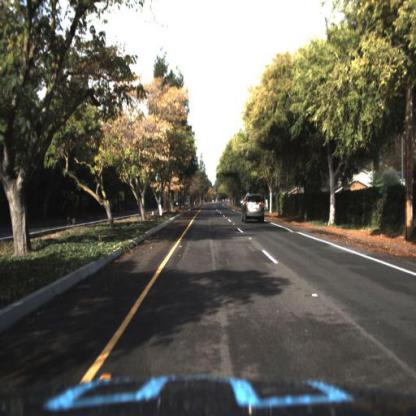car: (241, 194, 267, 226)
